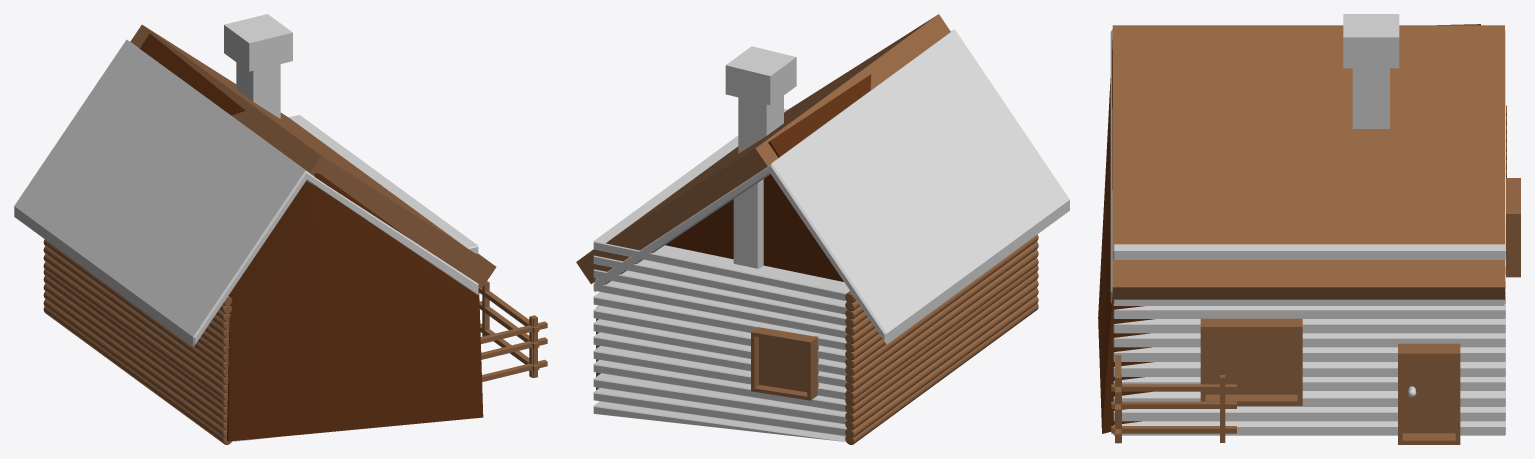
File: house.obj
The picture shows the model from 3 angles, left to right: view 1: azimuth 30°, elevation 25°; view 2: azimuth 150°, elevation 25°; view 3: azimuth 270°, elevation 25°; orthographic projection. The views are drawn at different scales.
Parts seen in each view (by area): view 1: 立方体.8, 挤压.1_1, 挤压.1, 立方体.5, 立方体.7, Cap_2_3, 挤压.3, 立方体.3, 立方体.6, 立方体.4, Rounding_2_3, Rounding_2; view 2: 挤压.1_1, Cap_1_2, 挤压.3, 挤压.1, 立方体.5, Rounding_1_2, 立方体.8, 立方体, 立方体.7, Cap_1_3, Cap_1_1, 立方体.6 (+3 smaller); view 3: 立方体.5, 挤压.3, 立方体.2, 立方体.1, 立方体.8, 立方体.3, 立方体.7, 立方体.6, 立方体, 挤压.1_1, Rounding_2_3, 立方体.4.
Part boxes in pixels (bbox=[...]): 立方体.8: bbox=[140, 33, 483, 441]; 挤压.1_1: bbox=[14, 39, 305, 347]; 挤压.1: bbox=[44, 239, 224, 442]; 立方体.5: bbox=[130, 24, 496, 288]; 立方体.7: bbox=[224, 14, 292, 71]; Cap_2_3: bbox=[195, 173, 478, 344]; 挤压.3: bbox=[232, 115, 477, 441]; 立方体.3: bbox=[479, 281, 539, 377]; 立方体.6: bbox=[236, 62, 280, 118]; 立方体.4: bbox=[480, 315, 547, 381]; Rounding_2_3: bbox=[193, 170, 478, 347]; Rounding_2: bbox=[222, 296, 232, 444]; 挤压.1_1: bbox=[771, 29, 1069, 344]; Cap_1_2: bbox=[594, 242, 846, 441]; 挤压.3: bbox=[594, 109, 849, 441]; 挤压.1: bbox=[848, 235, 1038, 442]; 立方体.5: bbox=[576, 14, 950, 283]; Rounding_1_2: bbox=[593, 241, 846, 441]; 立方体.8: bbox=[665, 74, 871, 281]; 立方体: bbox=[751, 327, 818, 400]; 立方体.7: bbox=[725, 46, 796, 105]; Cap_1_3: bbox=[595, 166, 884, 341]; Cap_1_1: bbox=[734, 183, 757, 268]; 立方体.6: bbox=[738, 95, 783, 153]; 立方体.5: bbox=[1112, 25, 1504, 299]; 挤压.3: bbox=[1114, 244, 1504, 435]; 立方体.2: bbox=[1200, 318, 1302, 405]; 立方体.1: bbox=[1398, 343, 1460, 444]; 立方体.8: bbox=[1098, 24, 1480, 433]; 立方体.3: bbox=[1111, 375, 1236, 442]; 立方体.7: bbox=[1343, 14, 1399, 68]; 立方体.6: bbox=[1352, 68, 1389, 128]; 立方体: bbox=[1506, 178, 1520, 277]; 挤压.1_1: bbox=[1113, 304, 1504, 305]; Rounding_2_3: bbox=[1110, 29, 1112, 303]; 立方体.4: bbox=[1115, 355, 1121, 443].
Bounding box in the file's own units: 24.93 × 21.76 × 23.45.
